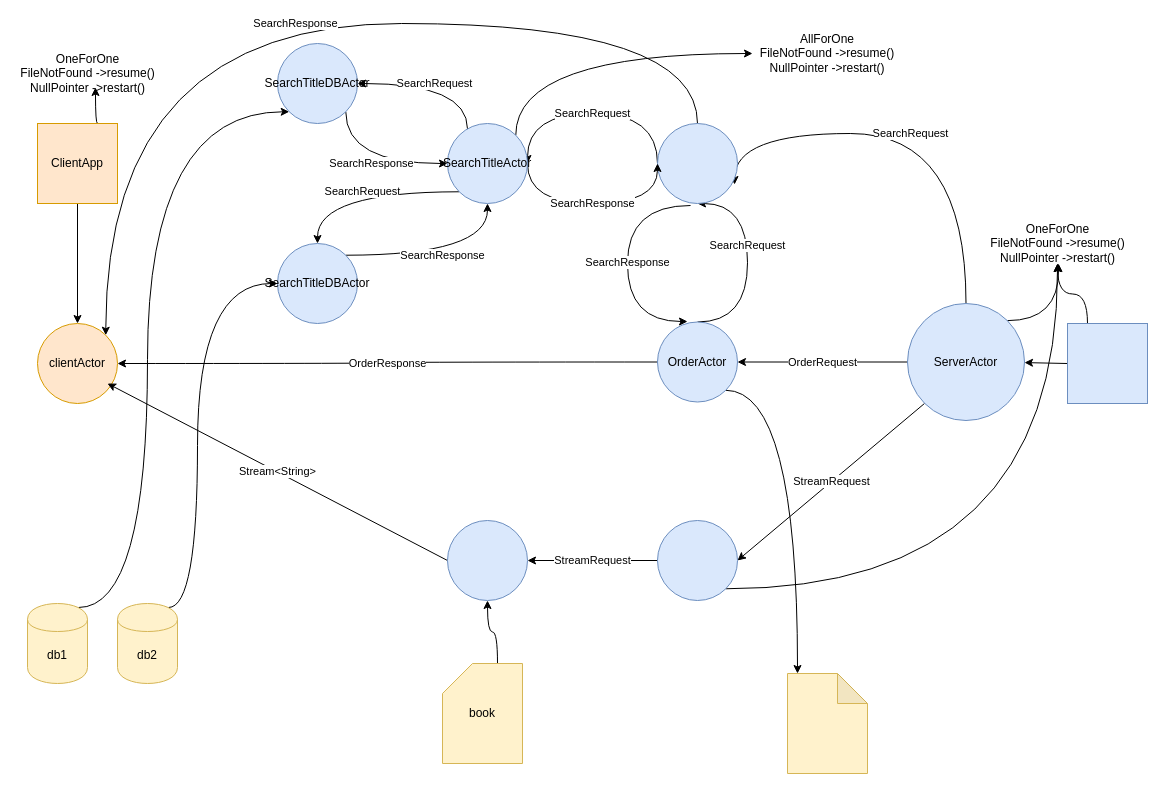
The diagram is 1165 pixels wide and 791 high, and some of its shapes have lost their labels. The centre of each missing label's shape, as x and y in pixels:
orders.txt: (x=827, y=723)
SearchActor: (x=697, y=163)
ServerApp: (x=1107, y=363)
StreamActor: (x=697, y=560)
StreamerActor: (x=487, y=560)
